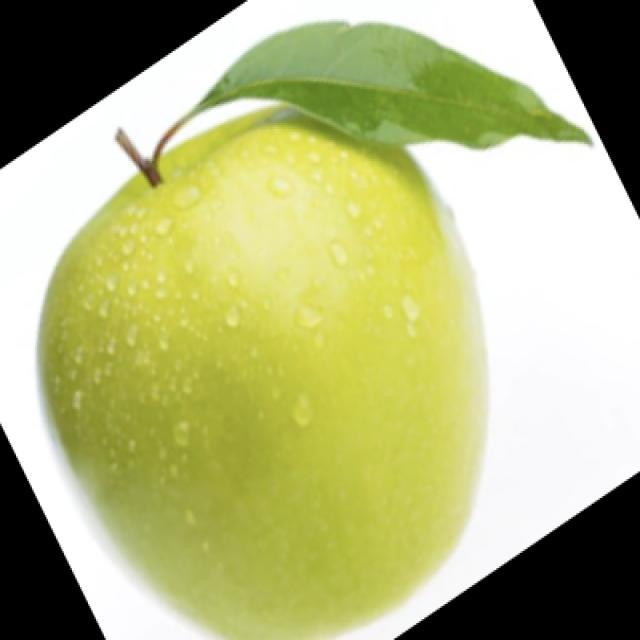Fresh Apple: (28, 141, 496, 640)
